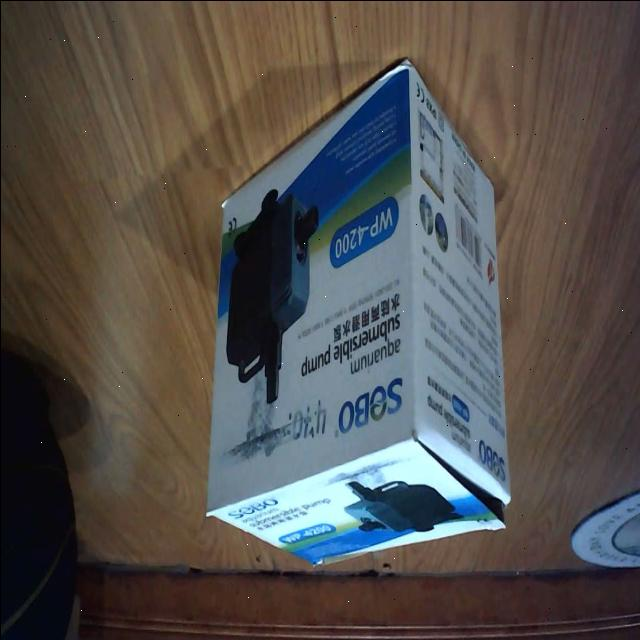SOBO_WP_4200: (193, 48, 515, 582)
